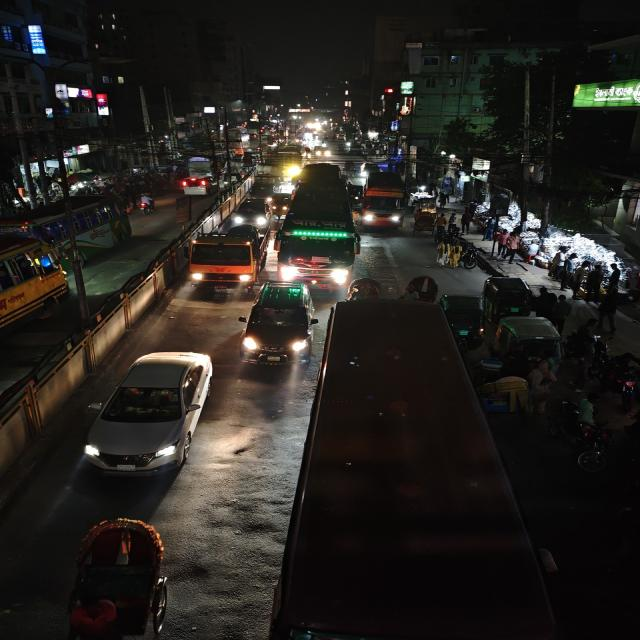bicycle: (432, 229, 478, 271)
bus: (287, 299, 557, 640), (276, 166, 362, 286), (2, 193, 135, 259), (0, 233, 71, 339), (360, 171, 410, 232), (266, 144, 304, 178)
car: (82, 347, 217, 481), (239, 279, 319, 370), (231, 197, 273, 227), (181, 173, 211, 200)
cng: (496, 314, 571, 372), (479, 276, 534, 316), (443, 292, 484, 342)
motorcycle: (546, 398, 618, 474), (587, 349, 640, 403)
pedestrian: (596, 290, 623, 334)
pickup_van: (184, 224, 266, 292)
rickshaw: (60, 514, 176, 640), (476, 369, 536, 417), (398, 273, 439, 303), (346, 276, 384, 302)
